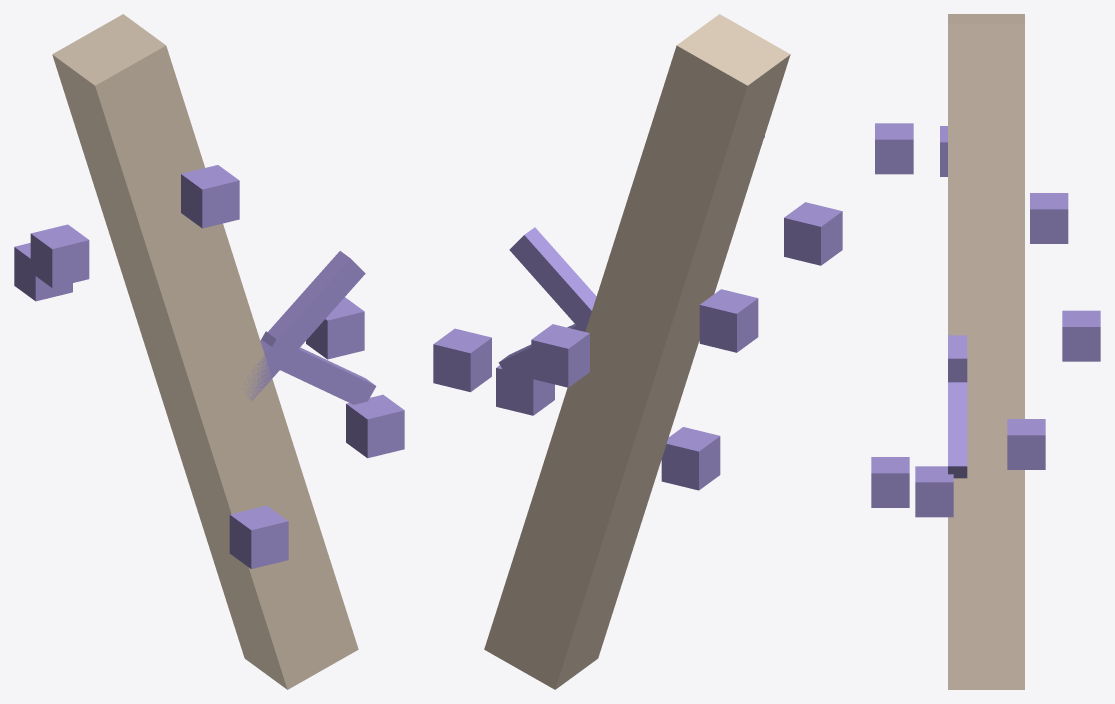
File: fault_gaz.gltf
3 renders of one model, left to right at view 1: azimuth 30°, elevation 25°; view 2: azimuth 150°, elevation 25°; view 3: azimuth 270°, elevation 25°, orthographic. The views are drawn at different scales.
Parts seen in each view (by area): view 1: hose_cracked, crack_a, gas_particle_0, gas_particle_5, gas_particle_6, gas_particle_1, crack_b, gas_particle_2, gas_particle_4; view 2: hose_cracked, crack_a, gas_particle_4, gas_particle_2, gas_particle_5, gas_particle_3, gas_particle_0, gas_particle_1, crack_b; view 3: hose_cracked, gas_particle_3, gas_particle_6, gas_particle_0, gas_particle_2, gas_particle_4, gas_particle_1, crack_b, crack_a, gas_particle_5.
Boxes of the visible parts, bbox=[...] form: hose_cracked: bbox=[52, 14, 358, 689]; crack_a: bbox=[244, 251, 365, 400]; gas_particle_0: bbox=[229, 505, 288, 568]; gas_particle_5: bbox=[30, 224, 89, 287]; gas_particle_6: bbox=[181, 165, 239, 228]; gas_particle_1: bbox=[346, 394, 404, 458]; crack_b: bbox=[261, 331, 376, 404]; gas_particle_2: bbox=[306, 297, 364, 359]; gas_particle_4: bbox=[14, 243, 72, 301]; hose_cracked: bbox=[484, 14, 790, 689]; crack_a: bbox=[509, 227, 596, 329]; gas_particle_4: bbox=[699, 289, 758, 352]; gas_particle_2: bbox=[433, 328, 491, 392]; gas_particle_5: bbox=[784, 202, 842, 265]; gas_particle_3: bbox=[531, 324, 589, 387]; gas_particle_0: bbox=[661, 427, 720, 490]; gas_particle_1: bbox=[496, 365, 554, 415]; crack_b: bbox=[498, 320, 588, 385]; hose_cracked: bbox=[948, 14, 1024, 689]; gas_particle_3: bbox=[1062, 310, 1100, 361]; gas_particle_6: bbox=[875, 123, 913, 174]; gas_particle_0: bbox=[871, 457, 909, 507]; gas_particle_2: bbox=[1007, 419, 1045, 469]; gas_particle_4: bbox=[1030, 193, 1068, 243]; gas_particle_1: bbox=[915, 466, 953, 517]; crack_b: bbox=[948, 382, 967, 478]; crack_a: bbox=[948, 335, 967, 382]; gas_particle_5: bbox=[940, 126, 947, 176].
Size of the model in its own units: 0.3763 by 0.6924 by 0.239.
